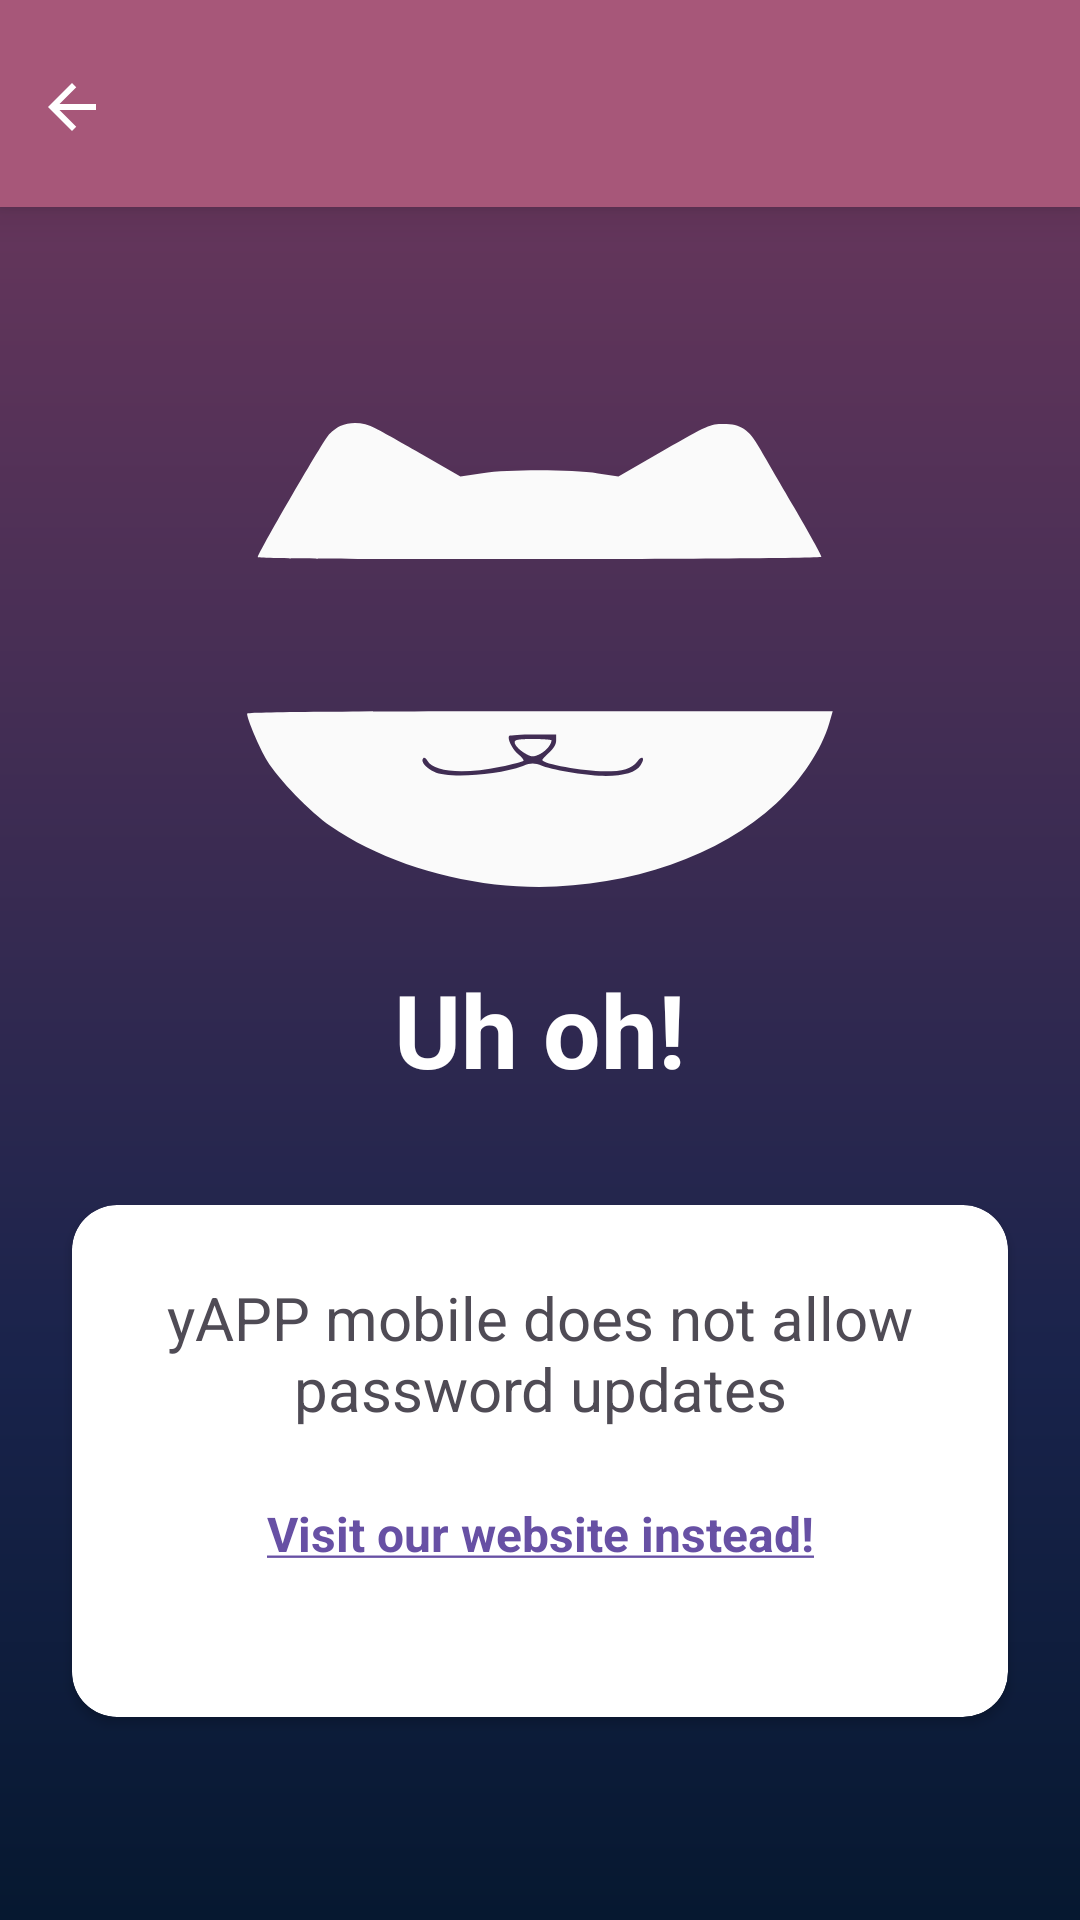

Locate icon controls on the screen. Image size 1080*1920, boxes as [x1, y1, x2, y2].
arrow back: [48, 83, 96, 131]
